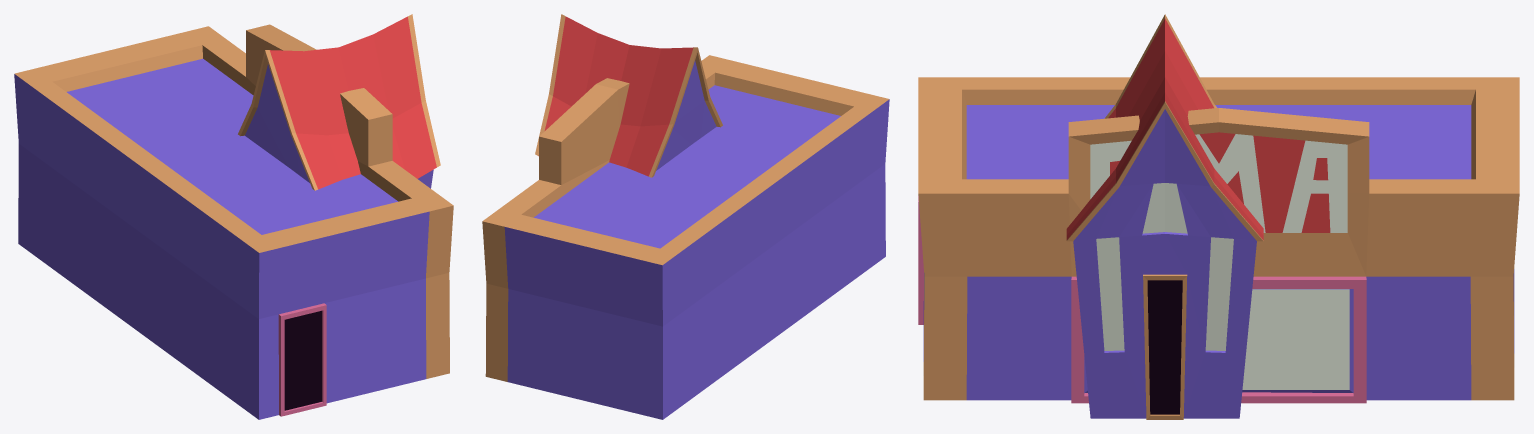
Rendered from 20_12_01_hauser.fbx.
3 renders of one model, left to right at view 1: azimuth 30°, elevation 25°; view 2: azimuth 150°, elevation 25°; view 3: azimuth 270°, elevation 25°, orthographic. The views are drawn at different scales.
Visible parts, largest first — view 1: Supermarkt, horrorhaus; view 2: Supermarkt, horrorhaus; view 3: Supermarkt, horrorhaus.
Part boxes in pixels (box(x1,y1,x2,y2)): Supermarkt: box(14, 24, 453, 419); horrorhaus: box(238, 14, 440, 190); Supermarkt: box(482, 55, 889, 419); horrorhaus: box(535, 14, 722, 177); Supermarkt: box(918, 77, 1519, 403); horrorhaus: box(1066, 14, 1263, 419).
Bounding box in the file's own units: 365 × 377 × 611.
